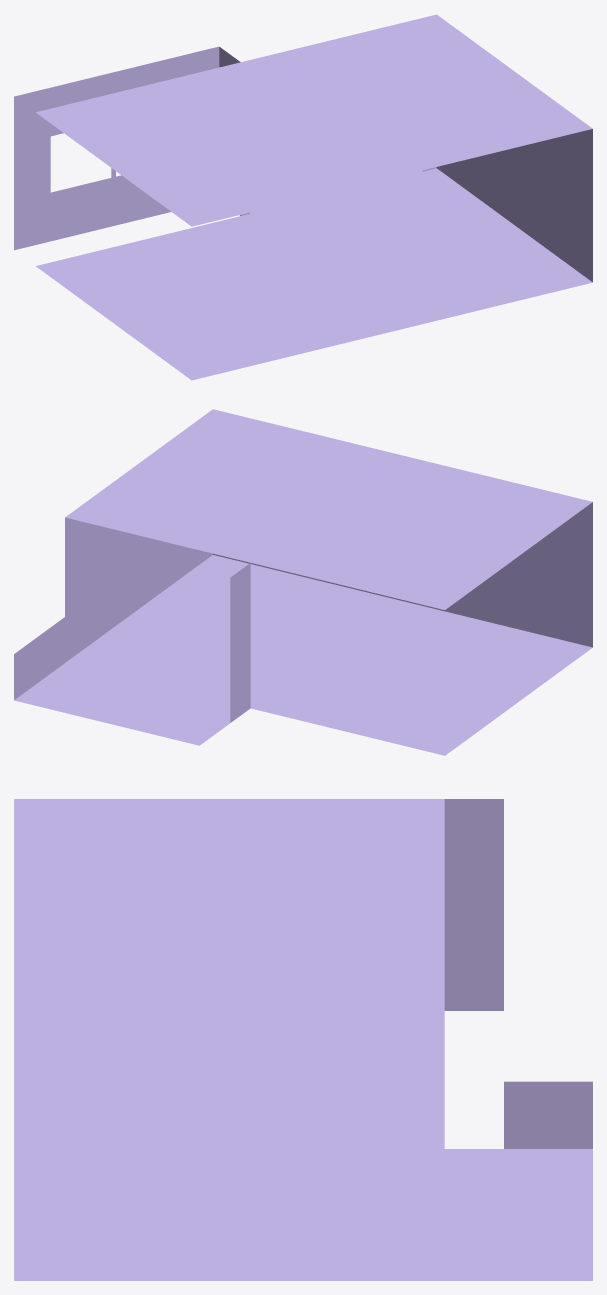
The model's file is twoBR.gltf.
3 views of the same model, one above another, from view 1: azimuth 30°, elevation 25°; view 2: azimuth 150°, elevation 25°; view 3: azimuth 270°, elevation 25° (orthographic). The views are drawn at different scales.
Size of the model in its own units: 8.6 by 3.15 by 7.8.
